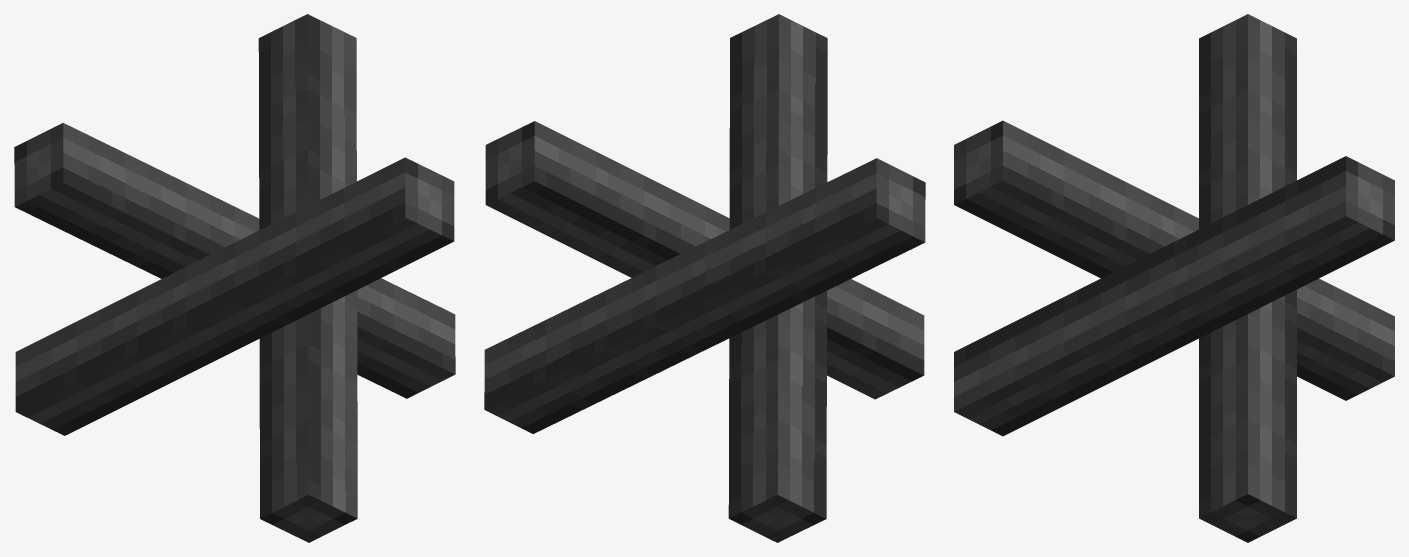
The model's file is tank_obstacle.obj.
3 renders of one model, left to right at view 1: azimuth 30°, elevation 25°; view 2: azimuth 150°, elevation 25°; view 3: azimuth 270°, elevation 25°, orthographic.
Visible parts, largest first — view 1: cube; view 2: cube; view 3: cube.
Boxes of the visible parts, x1,y1,x2,y2 form: cube: (14,14,455,542); cube: (484,14,925,542); cube: (954,14,1394,542).
Size of the model in its own units: 1.84 by 1.45 by 1.59.
